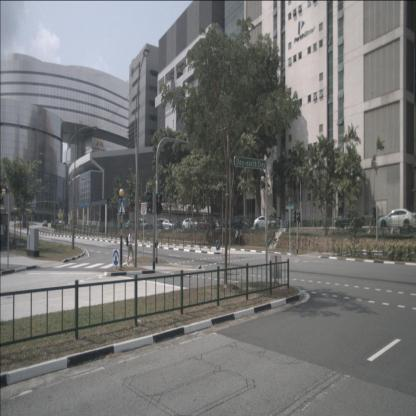human-pedestrian-adult: (126, 228, 136, 267), (0, 219, 6, 248), (235, 228, 239, 247), (239, 229, 243, 246)
vehicle-car: (378, 208, 415, 230), (334, 211, 365, 229), (253, 215, 278, 231), (230, 215, 252, 230), (198, 218, 215, 230), (182, 218, 198, 230), (136, 218, 150, 230), (149, 220, 164, 230), (162, 219, 177, 229), (125, 220, 139, 230), (155, 218, 167, 229), (176, 220, 184, 229), (215, 220, 222, 228), (42, 220, 48, 227)
